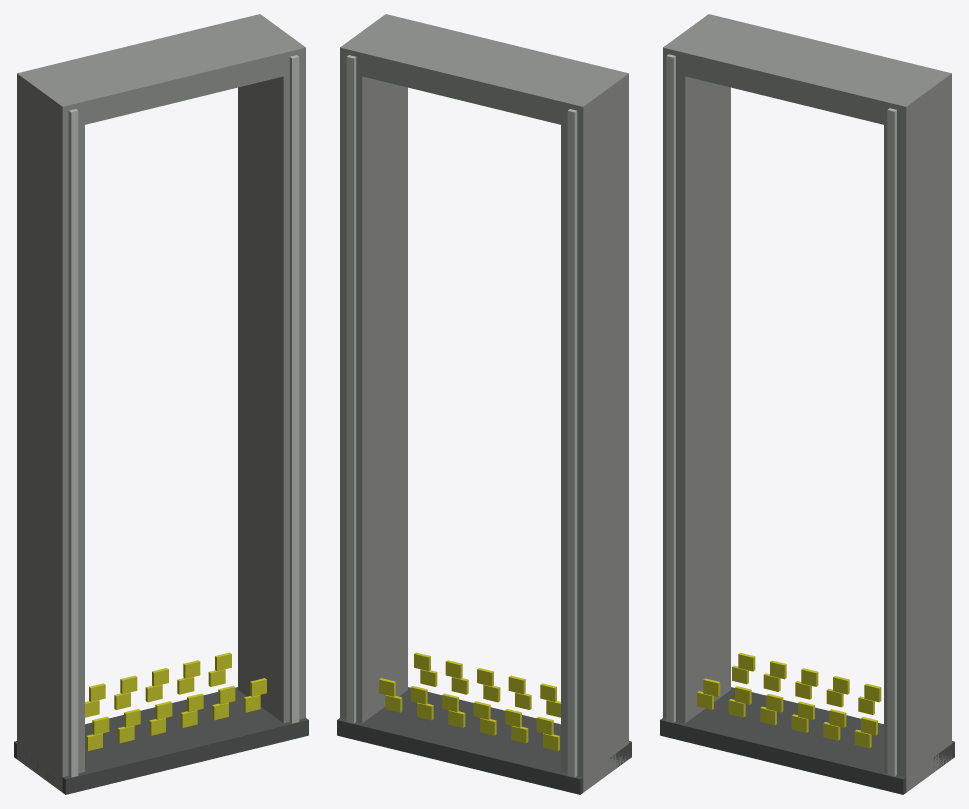
Rendered from CMU3DSinglePersonalDoorOpen.glb.
3 renders of one model, left to right at view 1: azimuth 30°, elevation 25°; view 2: azimuth 150°, elevation 25°; view 3: azimuth 330°, elevation 25°, orthographic.
Visible parts, largest first — view 1: door jamb (×2), header, jamb raised edge (×2), threshold; view 2: door jamb (×2), header, jamb raised edge (×2), threshold; view 3: door jamb (×2), header, jamb raised edge (×2), threshold.
Part boxes in pixels (bbox=[...]): door jamb (×2): bbox=[17, 14, 305, 792]; header: bbox=[17, 14, 305, 129]; jamb raised edge (×2): bbox=[68, 55, 299, 777]; threshold: bbox=[14, 687, 308, 794]; door jamb (×2): bbox=[340, 14, 628, 792]; header: bbox=[340, 14, 628, 129]; jamb raised edge (×2): bbox=[346, 55, 577, 777]; threshold: bbox=[337, 687, 631, 794]; door jamb (×2): bbox=[663, 14, 951, 792]; header: bbox=[663, 14, 951, 129]; jamb raised edge (×2): bbox=[666, 54, 896, 776]; threshold: bbox=[660, 687, 954, 794].
Size of the model in its own units: 0.98 by 2.64 by 0.36.
